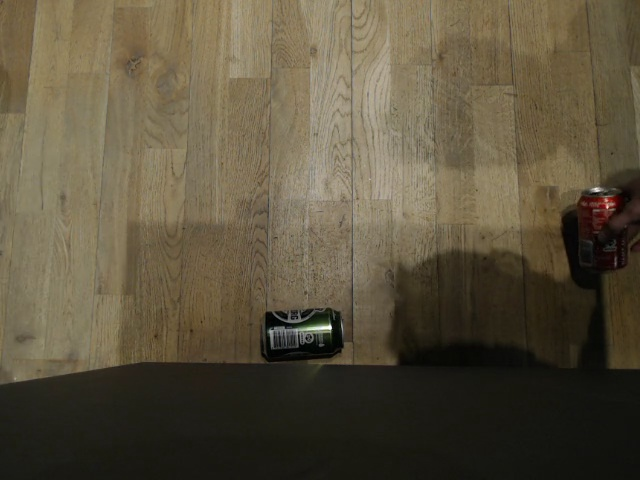beer: (257, 300, 347, 362)
cola: (572, 183, 633, 274)
